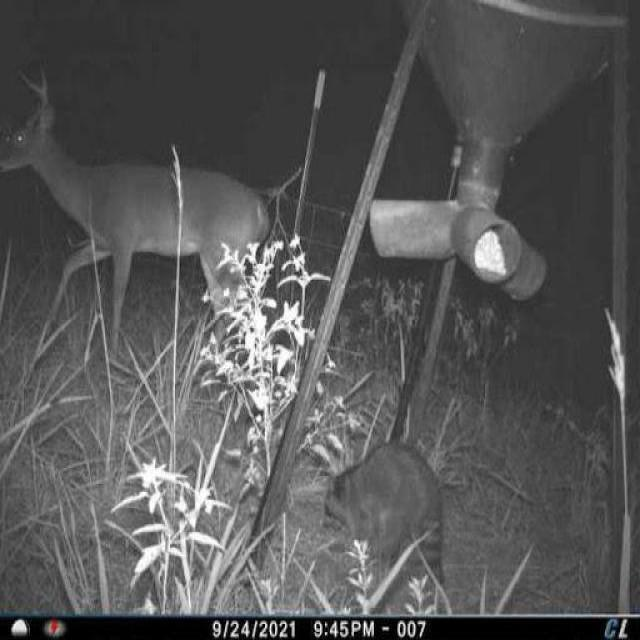deer: (0, 59, 275, 378)
